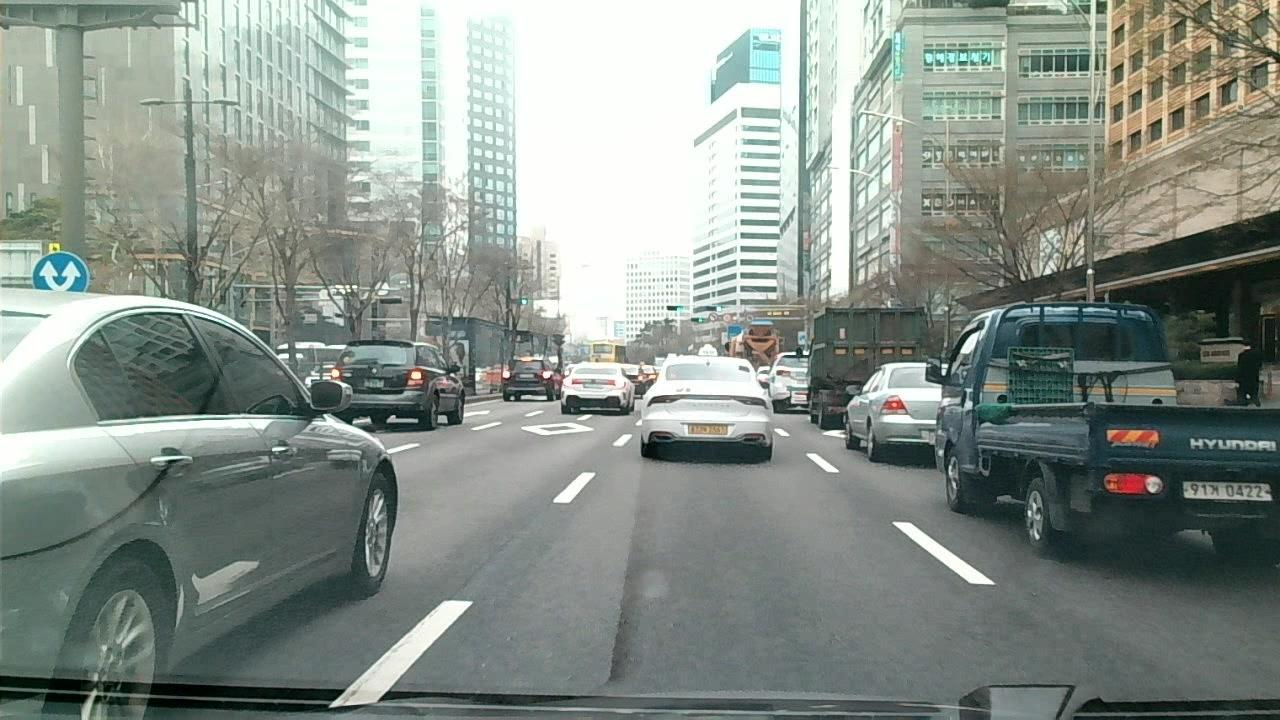vcrack: (605, 504, 650, 687)
